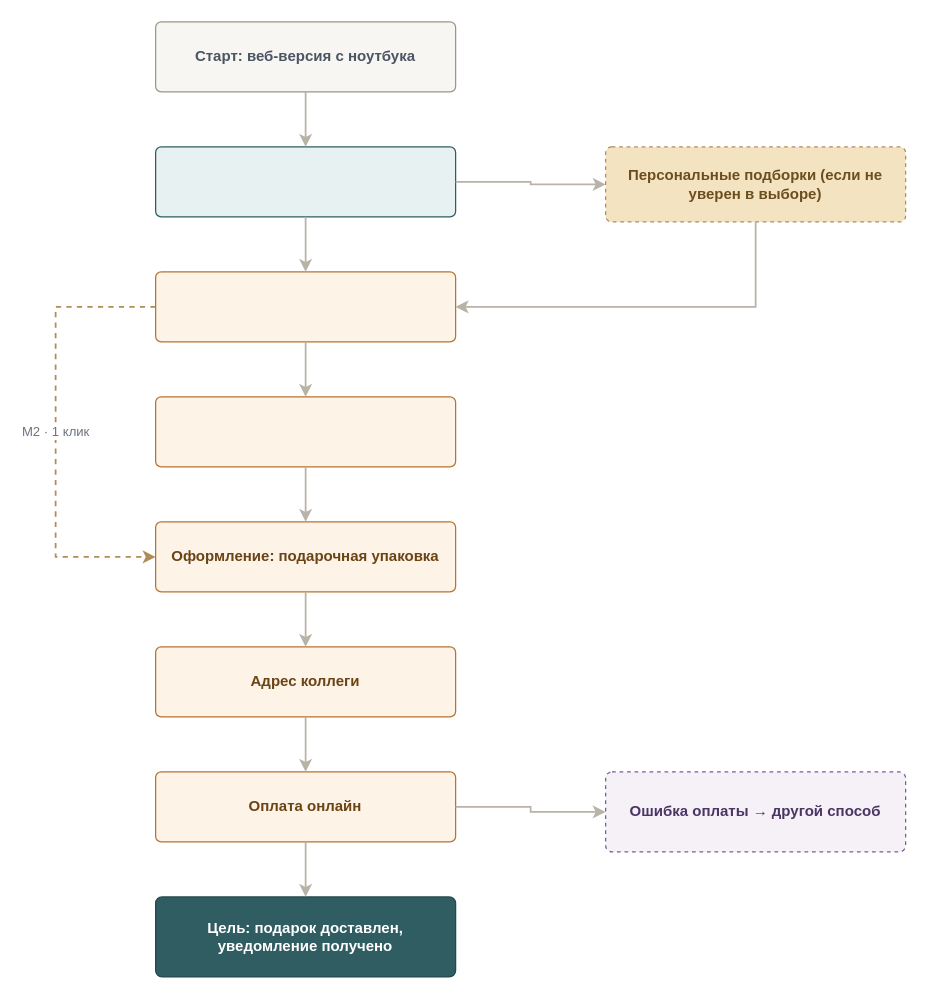
This 928x999 diagram has some shape labels left out. Each missing label, with the box of its shape:
В корзину: (154, 396, 456, 467)
Главная / Подборки: (154, 146, 456, 217)
Карточка: рейтинг, отзывы: (154, 271, 456, 342)
